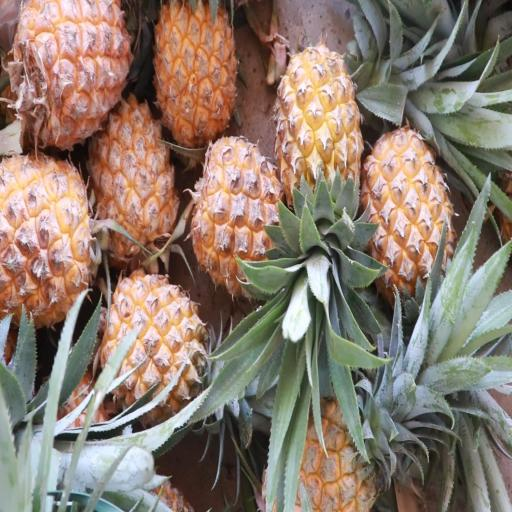Pineapple - v8 v1: (8, 0, 134, 163), (98, 263, 214, 421), (275, 39, 367, 236), (360, 121, 455, 308), (0, 150, 97, 333), (190, 128, 292, 298), (91, 94, 181, 270), (151, 2, 238, 162)
